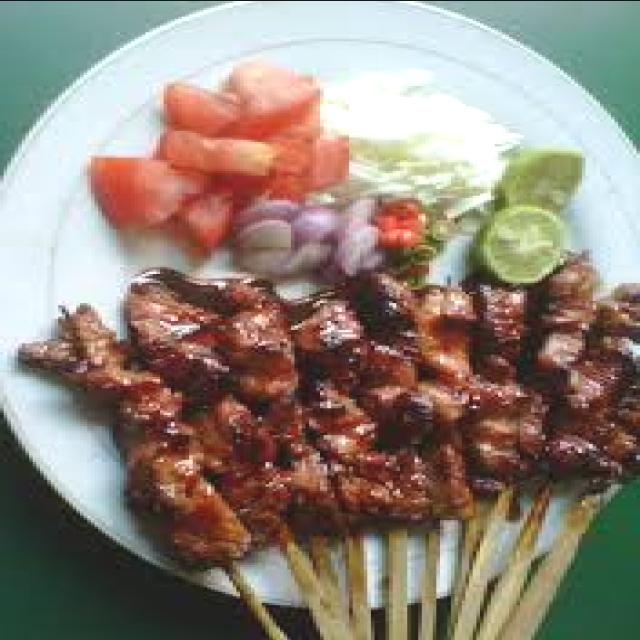sate: (18, 257, 640, 640)
